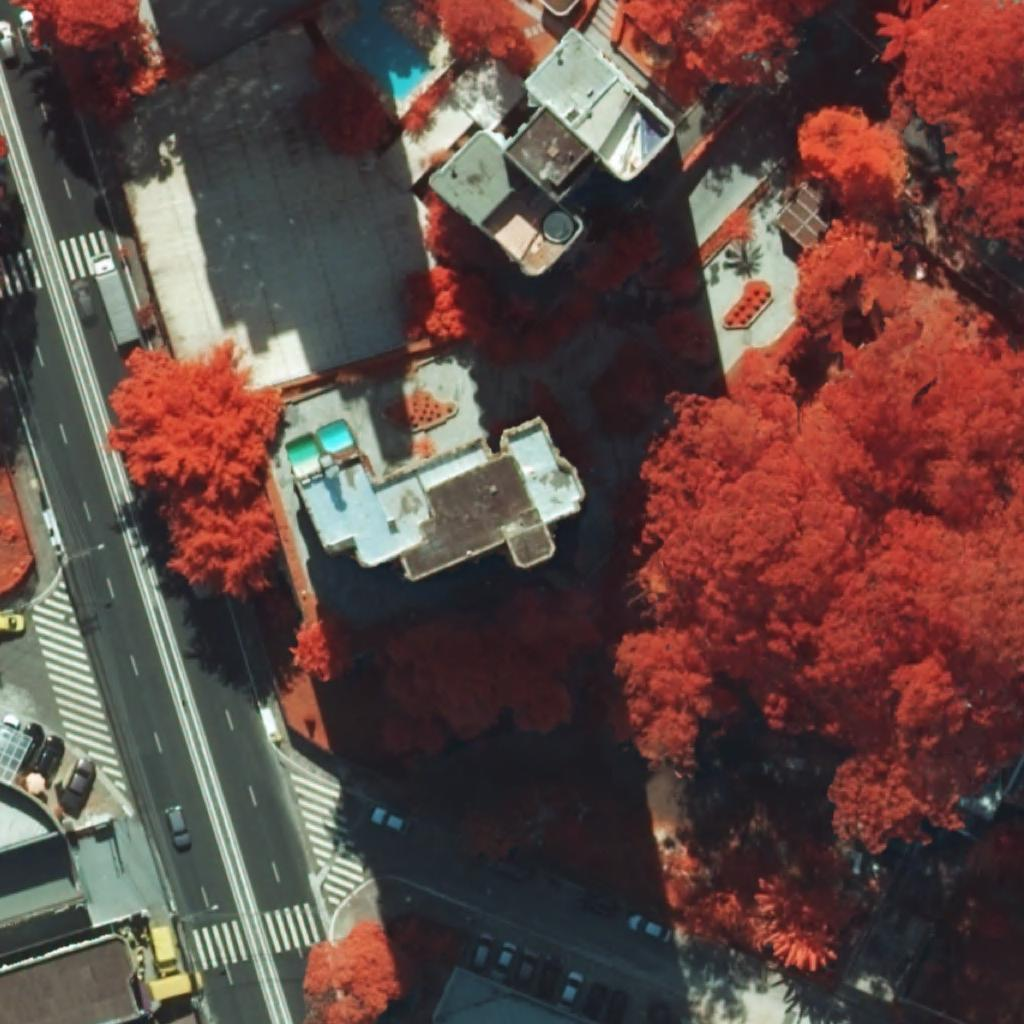pool: (335, 0, 435, 100), (286, 419, 353, 466)
